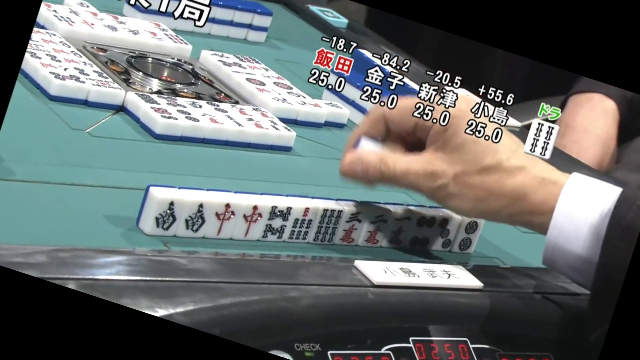Tehai: (136, 180, 484, 259)
